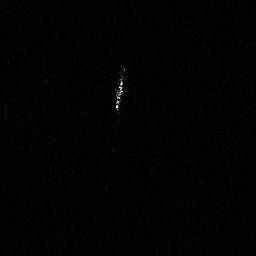ship: (114, 79, 124, 111)
